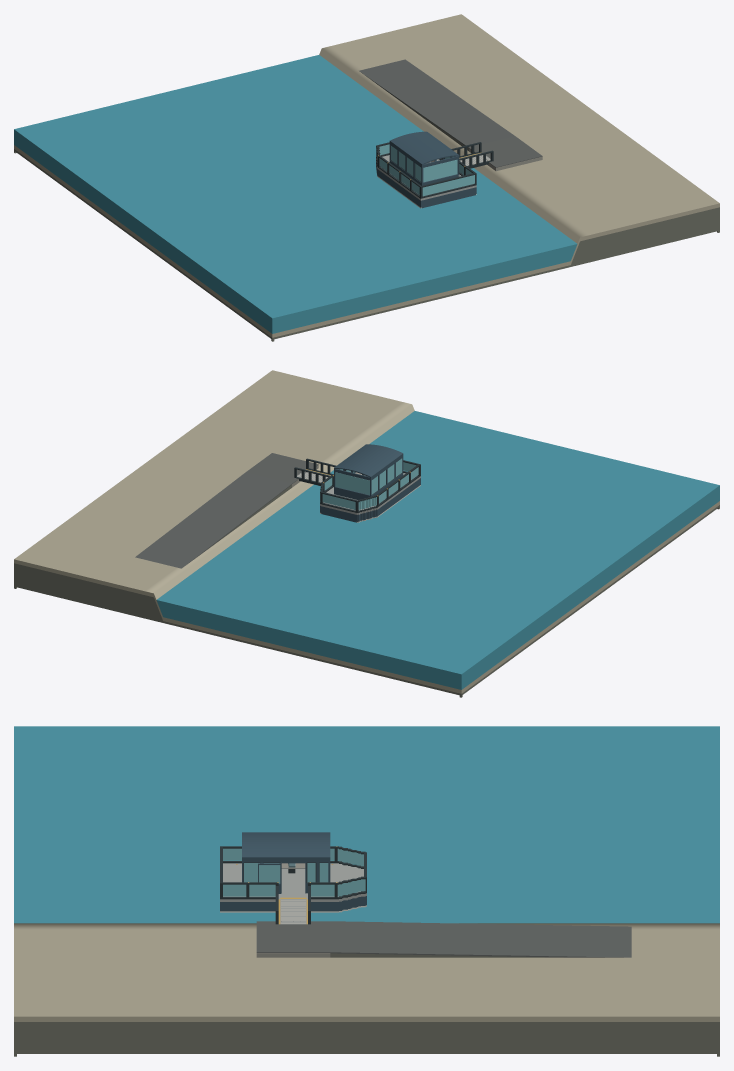
Rendered from visual-far.glb.
3 views of the same model, one above another, from view 1: azimuth 30°, elevation 25°; view 2: azimuth 150°, elevation 25°; view 3: azimuth 270°, elevation 25° (orthographic). The views are drawn at different scales.
Parts seen in each view (by area): view 1: 同源床面裁切的真实水域, 连续岩土实体与最小原生岩块, 真实实体路基与连续坡面, 独立乘舱壳、真实窗封和常开侧舱口, 渡船甲板舷栏和登离缺口组件, 石铺面与混凝土承板, 渡船船艏/船底体素组件, 码头至渡船真实登离接板; view 2: 同源床面裁切的真实水域, 连续岩土实体与最小原生岩块, 真实实体路基与连续坡面, 独立乘舱壳、真实窗封和常开侧舱口, 渡船甲板舷栏和登离缺口组件, 石铺面与混凝土承板, 渡船船艏/船底体素组件, 码头至渡船真实登离接板; view 3: 同源床面裁切的真实水域, 连续岩土实体与最小原生岩块, 真实实体路基与连续坡面, 独立乘舱壳、真实窗封和常开侧舱口, 渡船船艏/船底体素组件, 渡船甲板舷栏和登离缺口组件, 石铺面与混凝土承板, 码头至渡船真实登离接板.
Boxes of the visible parts, x1,y1,x2,y2 form: 同源床面裁切的真实水域: (14, 55, 577, 333); 连续岩土实体与最小原生岩块: (14, 14, 719, 341); 真实实体路基与连续坡面: (359, 59, 514, 151); 独立乘舱壳、真实窗封和常开侧舱口: (389, 131, 459, 185); 渡船甲板舷栏和登离缺口组件: (376, 142, 476, 198); 石铺面与混凝土承板: (469, 136, 542, 171); 渡船船艏/船底体素组件: (376, 155, 476, 208); 码头至渡船真实登离接板: (451, 142, 493, 168); 同源床面裁切的真实水域: (156, 411, 719, 689); 连续岩土实体与最小原生岩块: (14, 370, 719, 697); 真实实体路基与连续坡面: (135, 472, 291, 568); 独立乘舱壳、真实窗封和常开侧舱口: (334, 444, 403, 499); 渡船甲板舷栏和登离缺口组件: (320, 460, 420, 512); 石铺面与混凝土承板: (245, 453, 318, 487); 渡船船艏/船底体素组件: (320, 473, 420, 522); 码头至渡船真实登离接板: (294, 458, 336, 485); 同源床面裁切的真实水域: (14, 726, 719, 923); 连续岩土实体与最小原生岩块: (14, 923, 719, 1056); 真实实体路基与连续坡面: (330, 921, 631, 957); 独立乘舱壳、真实窗封和常开侧舱口: (242, 832, 330, 893); 渡船船艏/船底体素组件: (220, 863, 366, 912); 渡船甲板舷栏和登离缺口组件: (220, 846, 366, 899); 石铺面与混凝土承板: (256, 921, 330, 957); 码头至渡船真实登离接板: (275, 886, 310, 924).
Size of the model in its own units: 48 by 6.32 by 48.
23 materials, 22 textured.
